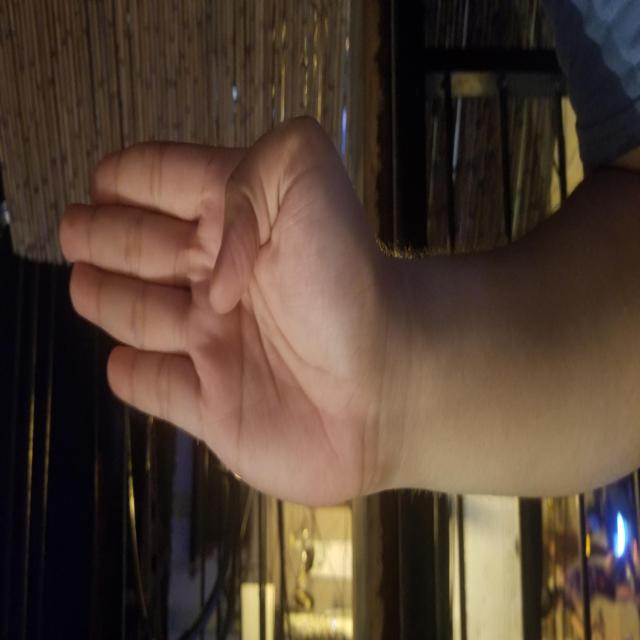B: (135, 57, 531, 367)
